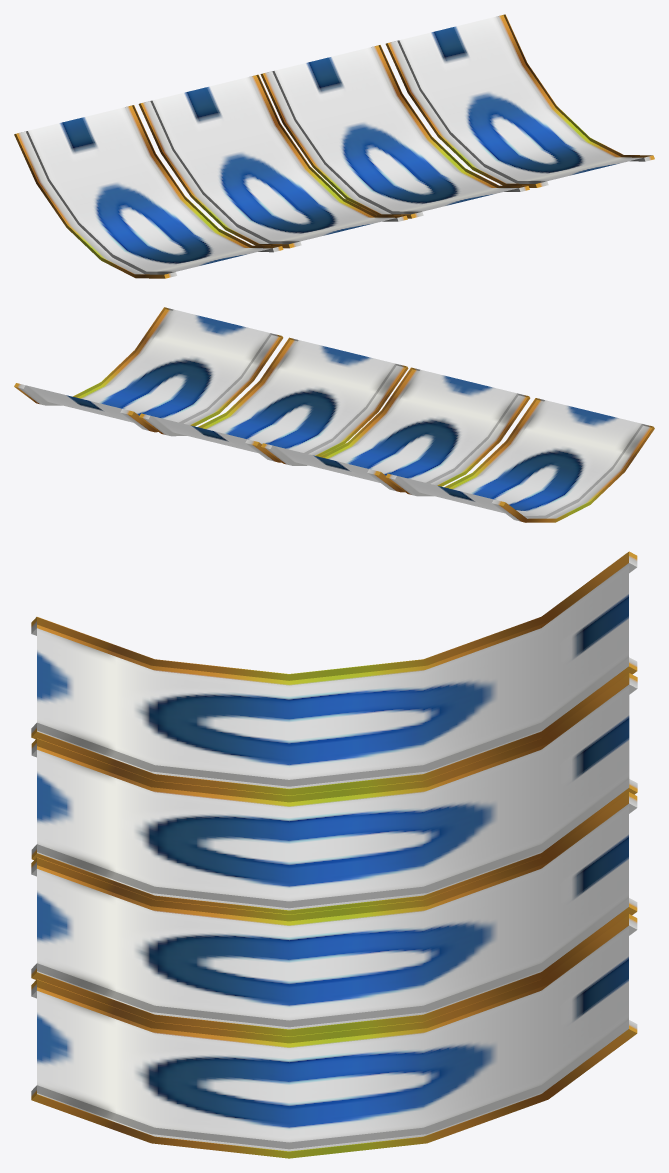
The model's file is zcl_baoxiang.fbx.
The picture shows the model from 3 angles, top to bottom: view 1: azimuth 30°, elevation 25°; view 2: azimuth 150°, elevation 25°; view 3: azimuth 270°, elevation 25°; orthographic projection. The views are drawn at different scales.
Visible parts, largest first — view 1: shuzi_4, shuzi_3, shuzi_1, shuzi_2; view 2: shuzi_4, shuzi_1, shuzi_3, shuzi_2; view 3: shuzi_1, shuzi_2, shuzi_4, shuzi_3.
Part boxes in pixels (bbox=[...]): shuzi_4: bbox=[14, 105, 283, 278]; shuzi_3: bbox=[138, 74, 407, 248]; shuzi_1: bbox=[385, 14, 654, 187]; shuzi_2: bbox=[260, 45, 529, 218]; shuzi_4: bbox=[385, 398, 654, 522]; shuzi_1: bbox=[14, 307, 283, 432]; shuzi_3: bbox=[261, 367, 530, 492]; shuzi_2: bbox=[139, 337, 408, 462]; shuzi_1: bbox=[31, 914, 637, 1158]; shuzi_2: bbox=[31, 792, 637, 1036]; shuzi_4: bbox=[31, 551, 637, 795]; shuzi_3: bbox=[31, 673, 637, 914].
Size of the model in its own units: 0.0171 by 0.00217 by 0.00919.
